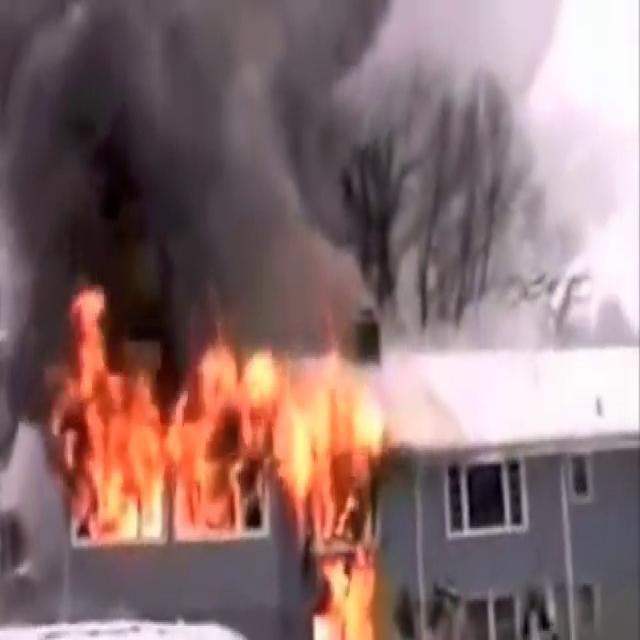Fire: (40, 285, 277, 544), (270, 338, 396, 632)
Smoke: (0, 0, 376, 338)
